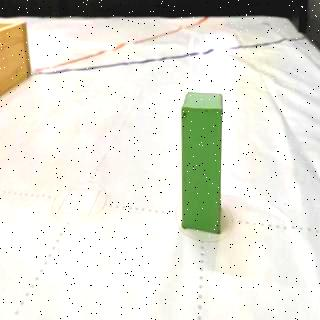greenbox: (180, 90, 226, 235)
